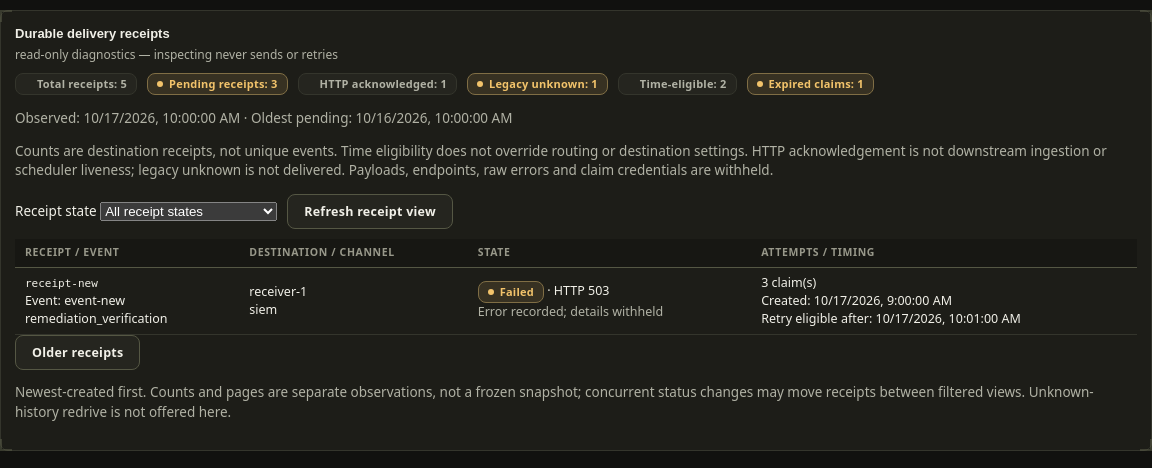
Scenario: Read-only notification receipt inspection › resets pagination on filtering and never lets an old page overwrite the new filter
The image size is (1152, 468).
Click the button "Older receipts" at (78, 352), box [15,335,140,370]
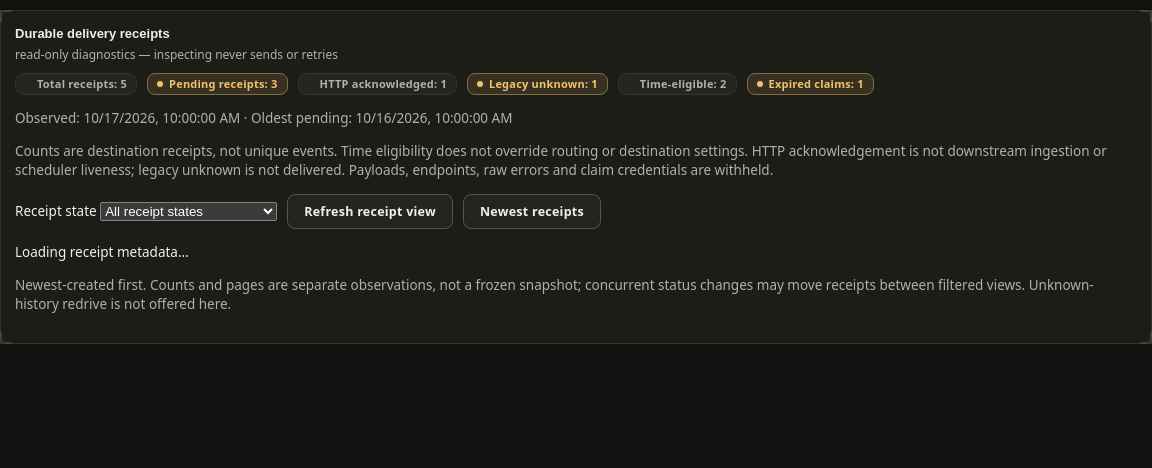
Expected: the text "receipt-new" is gone
Select "Legacy outcome unknown" in the dropdown named "Receipt status" at (189, 212), box [100,202,277,221]
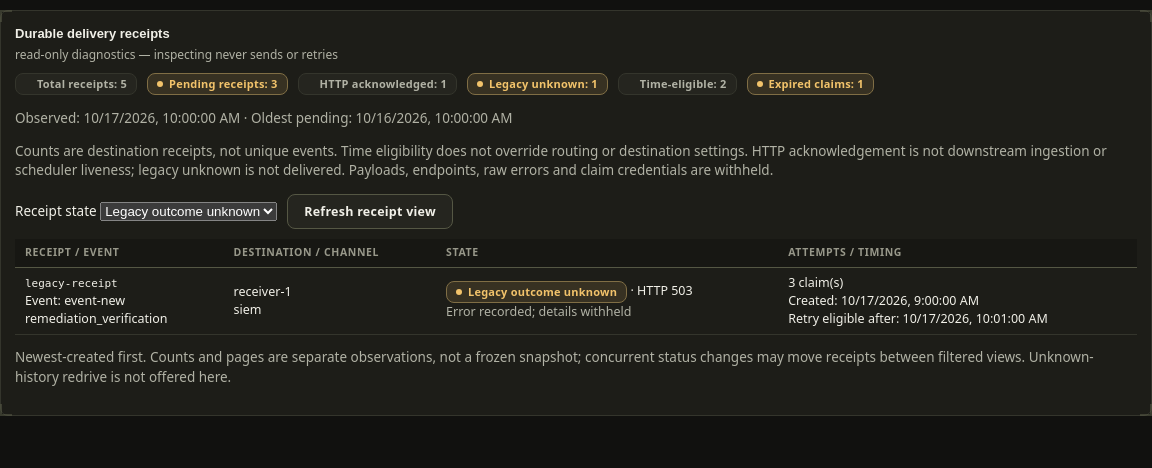
Expected: the text "legacy-receipt" is shown, [25,277,118,290]
